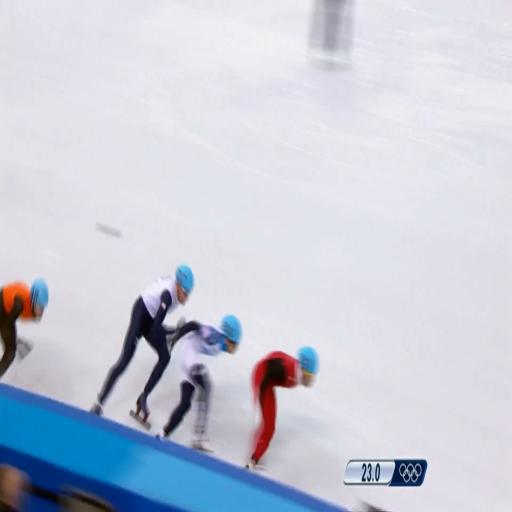Skater: (91, 265, 194, 427), (158, 315, 241, 451), (246, 347, 318, 469), (0, 278, 48, 377)
